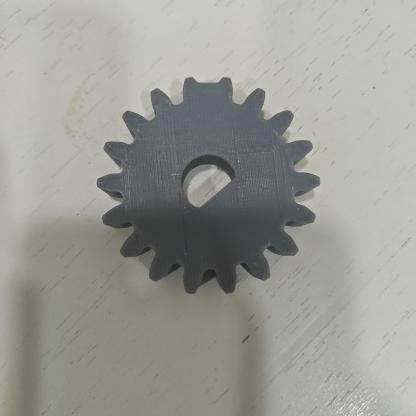defect: (179, 168, 246, 216), (166, 71, 247, 109)
gear: (83, 69, 335, 305)
